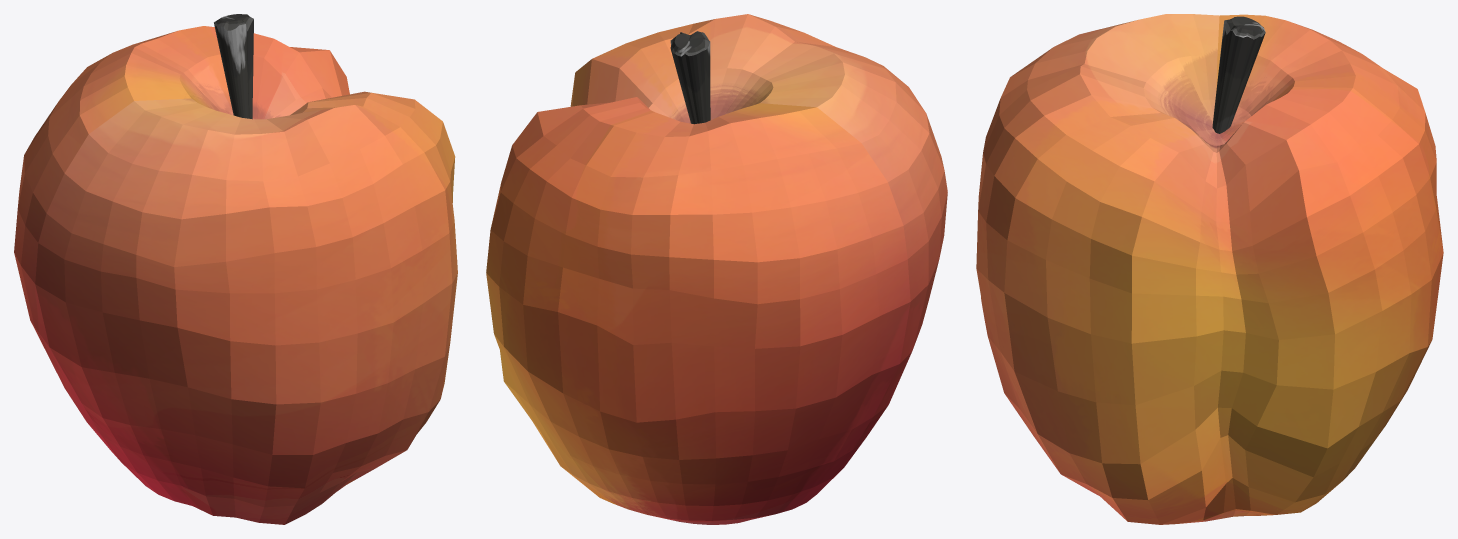
Rendered from coloredPeach.glb.
3 renders of one model, left to right at view 1: azimuth 30°, elevation 25°; view 2: azimuth 150°, elevation 25°; view 3: azimuth 270°, elevation 25°, orthographic. The views are drawn at different scales.
Parts seen in each view (by area): view 1: Sphere; view 2: Sphere; view 3: Sphere.
Part boxes in pixels (x1,y1,x2,y2): Sphere: (14, 14, 457, 524); Sphere: (486, 14, 947, 524); Sphere: (976, 14, 1443, 524).
Size of the model in its own units: 2.18 by 2.53 by 2.25.
1 material, 1 textured.
